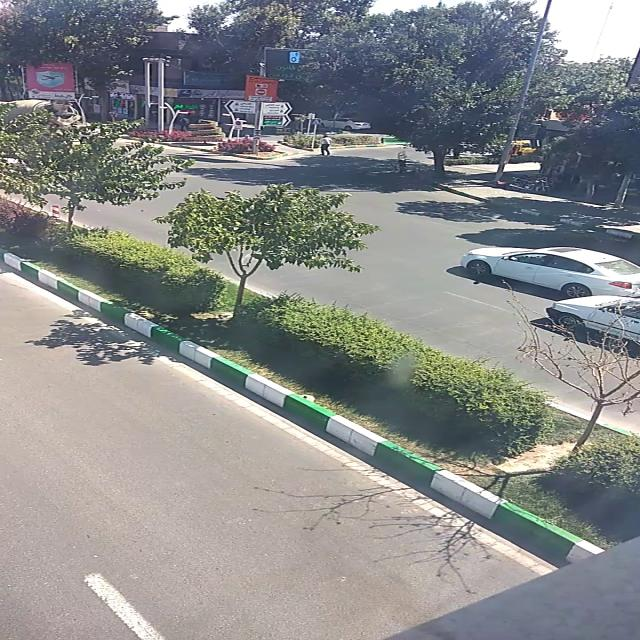car: (460, 245, 640, 298), (550, 294, 636, 346), (316, 118, 374, 130)
